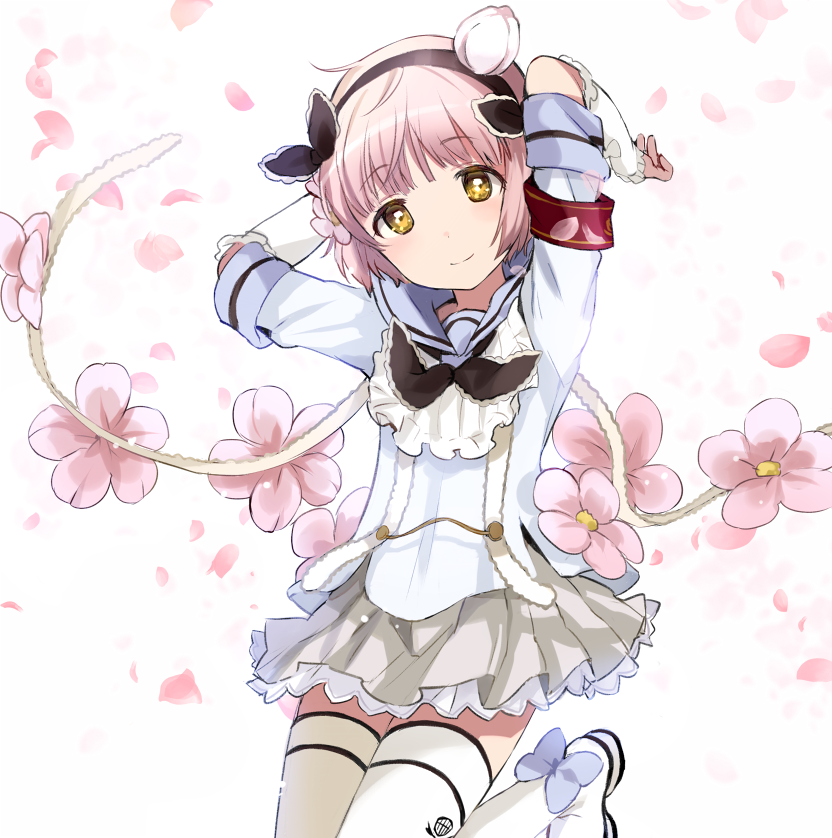纸片人正脸: (298, 35, 554, 297)
